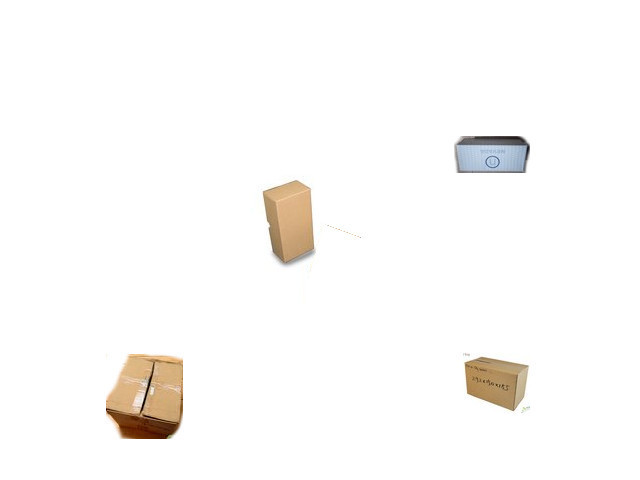cardboard: (108, 355, 184, 439), (263, 180, 313, 265), (466, 355, 528, 412), (455, 138, 527, 172)
